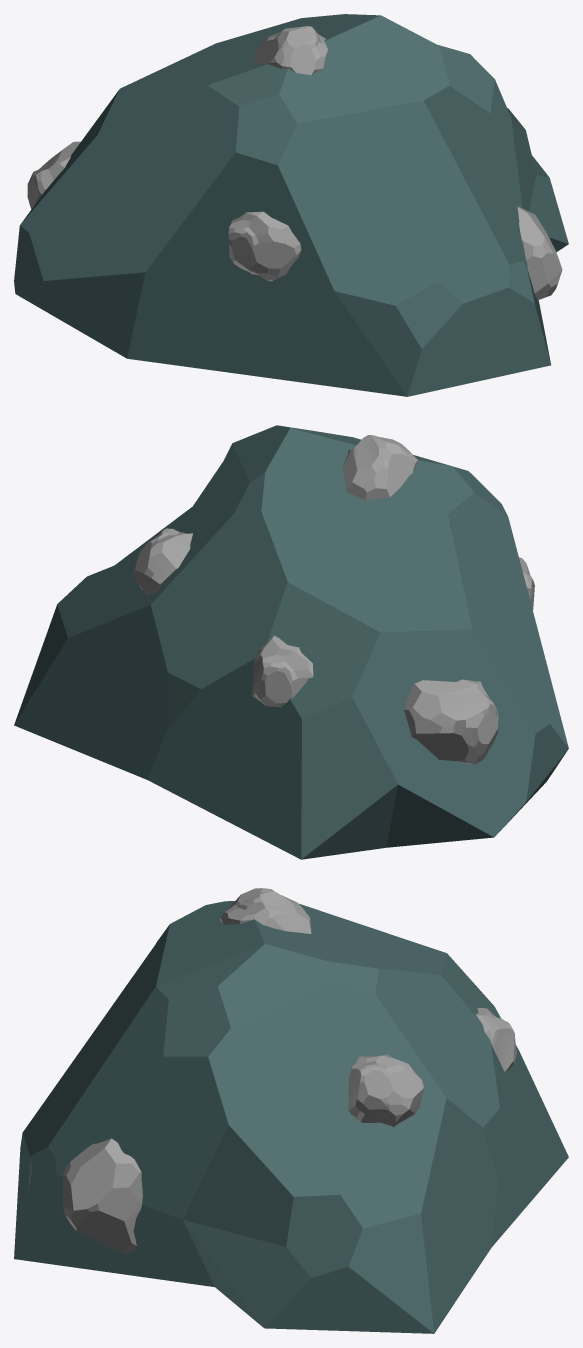
The model's file is Iron4.fbx.
3 views of the same model, one above another, from view 1: azimuth 30°, elevation 25°; view 2: azimuth 150°, elevation 25°; view 3: azimuth 270°, elevation 25° (orthographic). The views are drawn at different scales.
Visible parts, largest first — view 1: Rock3, Nodes; view 2: Rock3, Nodes; view 3: Rock3, Nodes.
Part boxes in pixels (x1,y1,x2,y2): Rock3: (14, 14, 568, 396); Nodes: (27, 26, 562, 299); Rock3: (14, 425, 568, 859); Nodes: (132, 435, 534, 764); Rock3: (14, 901, 568, 1333); Nodes: (63, 888, 516, 1253).
Bounding box in the file's own units: 188 × 112 × 174.
